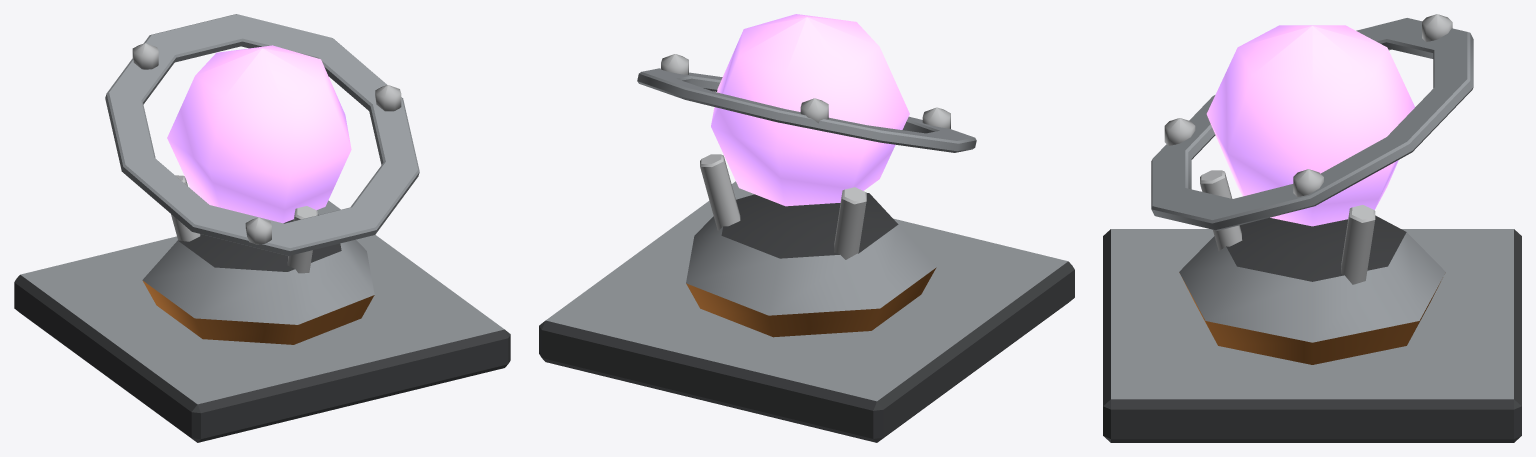
Rendered from R4X_OrbAmplifier_LOD1.fbx.
3 views of the same model, side by side, from view 1: azimuth 30°, elevation 25°; view 2: azimuth 150°, elevation 25°; view 3: azimuth 270°, elevation 25° (orthographic). The views are drawn at different scales.
Parts seen in each view (by area): view 1: R4X_OrbAmplifier_LOD1; view 2: R4X_OrbAmplifier_LOD1; view 3: R4X_OrbAmplifier_LOD1.
Boxes of the visible parts, left/top/right/bottom form: R4X_OrbAmplifier_LOD1: left=14, top=14, right=510, bottom=442; R4X_OrbAmplifier_LOD1: left=539, top=14, right=1074, bottom=442; R4X_OrbAmplifier_LOD1: left=1103, top=14, right=1521, bottom=442.
Bounding box in the file's own units: 0.52 × 0.455 × 0.52.
